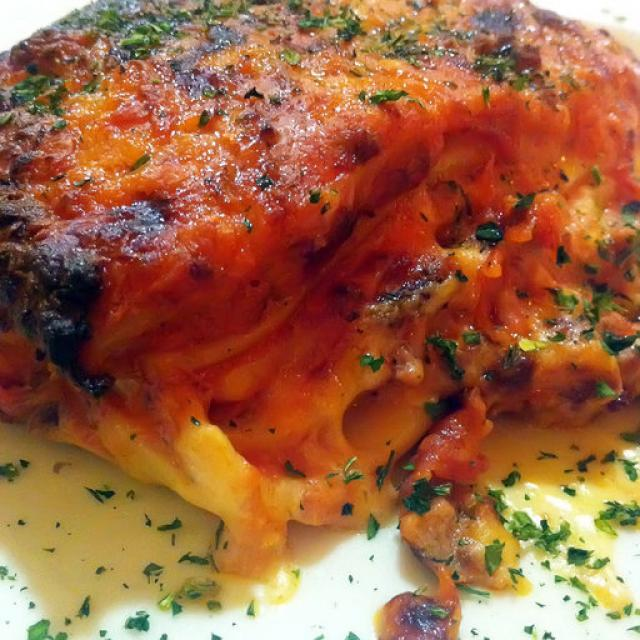Lasagna: (2, 1, 640, 511)
